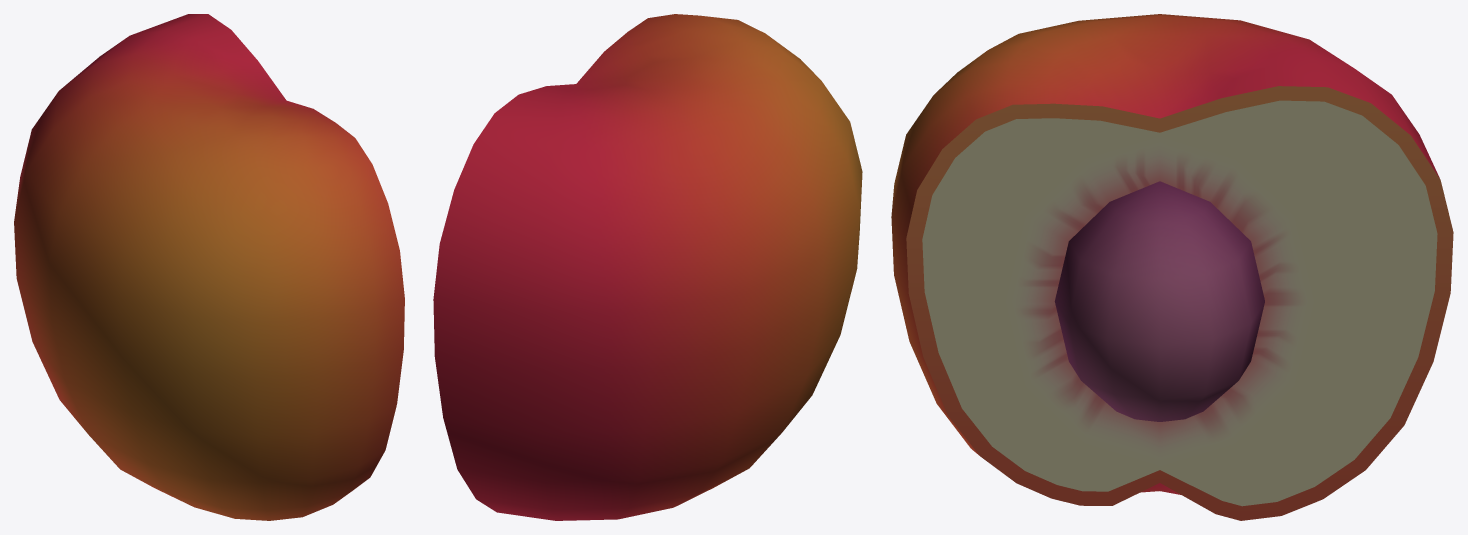
Rendered from Peach_part.glb.
The picture shows the model from 3 angles, left to right: view 1: azimuth 30°, elevation 25°; view 2: azimuth 150°, elevation 25°; view 3: azimuth 270°, elevation 25°; orthographic projection. The views are drawn at different scales.
Visible parts, largest first — view 1: geometry_0; view 2: geometry_0; view 3: geometry_0.
Part boxes in pixels (x1,y1,x2,y2): geometry_0: (14, 14, 404, 520); geometry_0: (433, 14, 862, 520); geometry_0: (891, 14, 1453, 520).
Bounding box in the file's own units: 0.2335 × 0.2822 × 0.3291.
1 material, 1 textured.
